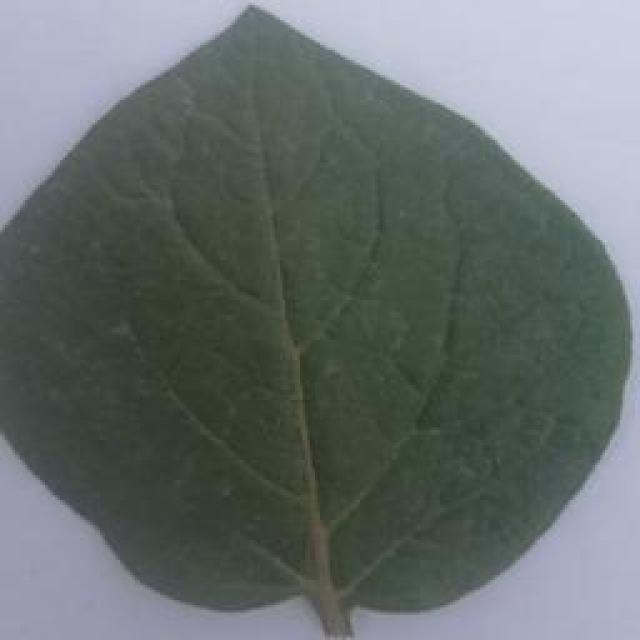Potato_Healthy: (5, 3, 621, 629)
